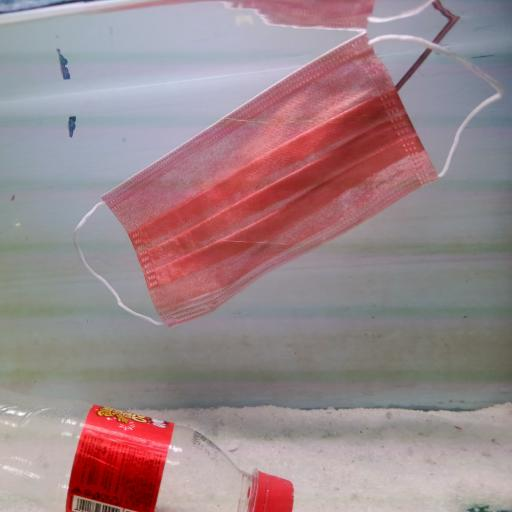bottle_cap: (256, 465, 298, 512)
mask: (70, 26, 508, 328)
plastic_bottle: (0, 394, 301, 512)
